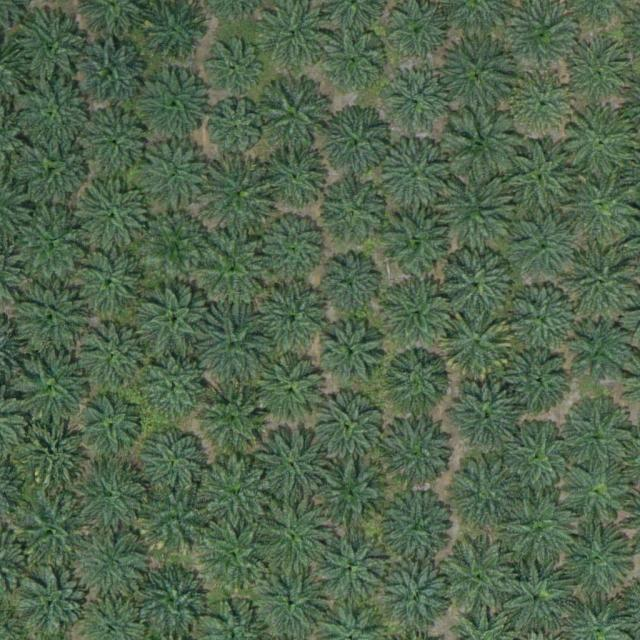Healthy: (560, 247, 638, 326), (559, 107, 637, 186), (500, 142, 578, 221), (436, 250, 514, 329), (433, 174, 511, 253), (448, 109, 526, 188), (441, 36, 519, 115), (379, 204, 457, 283), (193, 311, 271, 390), (203, 157, 281, 236), (138, 287, 216, 366), (559, 397, 637, 476), (501, 420, 579, 499), (13, 281, 91, 360), (13, 207, 91, 286), (17, 134, 95, 213), (17, 82, 95, 161), (19, 411, 97, 490), (13, 488, 91, 567), (73, 530, 151, 609), (74, 461, 152, 540), (253, 497, 331, 576), (379, 415, 457, 494), (381, 489, 459, 568), (439, 540, 517, 619), (444, 457, 522, 536), (447, 377, 525, 456), (499, 497, 577, 576), (496, 561, 574, 640), (557, 522, 635, 601), (379, 274, 457, 352), (253, 426, 331, 504), (316, 528, 394, 606), (316, 458, 394, 536), (379, 559, 457, 637), (510, 4, 581, 75), (257, 80, 328, 151), (259, 210, 330, 281), (75, 248, 146, 319), (199, 456, 270, 527), (142, 489, 213, 560), (564, 321, 634, 392), (566, 36, 636, 107), (508, 69, 578, 140), (510, 212, 580, 283), (321, 109, 391, 180), (262, 286, 332, 357), (196, 234, 266, 305), (81, 184, 152, 254), (84, 325, 154, 396), (141, 354, 212, 424), (199, 380, 269, 451), (509, 284, 579, 354), (385, 67, 455, 137), (382, 143, 452, 213), (140, 73, 210, 143), (140, 143, 210, 213), (18, 355, 88, 425), (138, 428, 208, 498), (259, 357, 329, 427), (505, 347, 568, 410), (322, 182, 385, 245), (204, 100, 267, 163), (144, 3, 207, 66), (142, 214, 205, 277), (80, 397, 143, 460), (204, 523, 267, 586), (388, 4, 450, 67), (387, 347, 449, 410), (321, 322, 383, 385), (316, 255, 378, 318), (321, 31, 383, 94), (264, 148, 326, 211), (202, 38, 264, 101), (75, 46, 137, 109), (23, 16, 85, 79), (92, 113, 154, 176), (318, 399, 380, 462), (567, 465, 629, 527)
Yellow: (441, 311, 519, 389)
